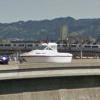Boat: (13, 36, 76, 66)
